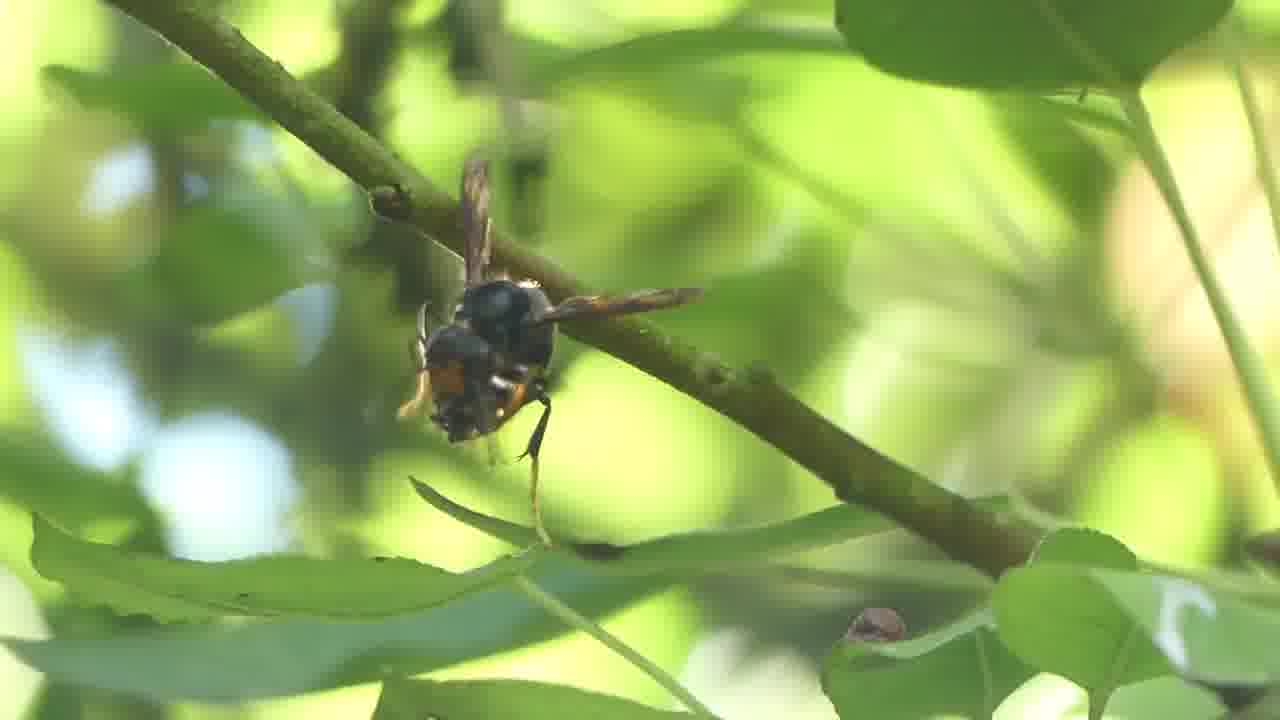hornet: (384, 200, 610, 489)
